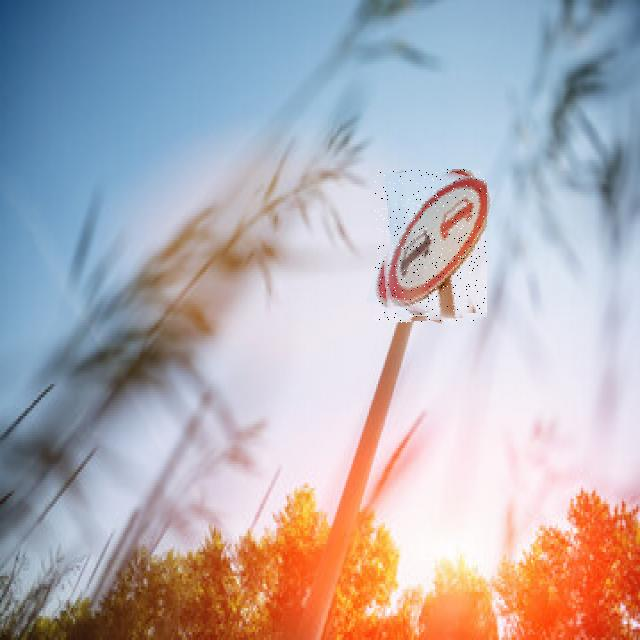no overtaking: (375, 169, 487, 323)
